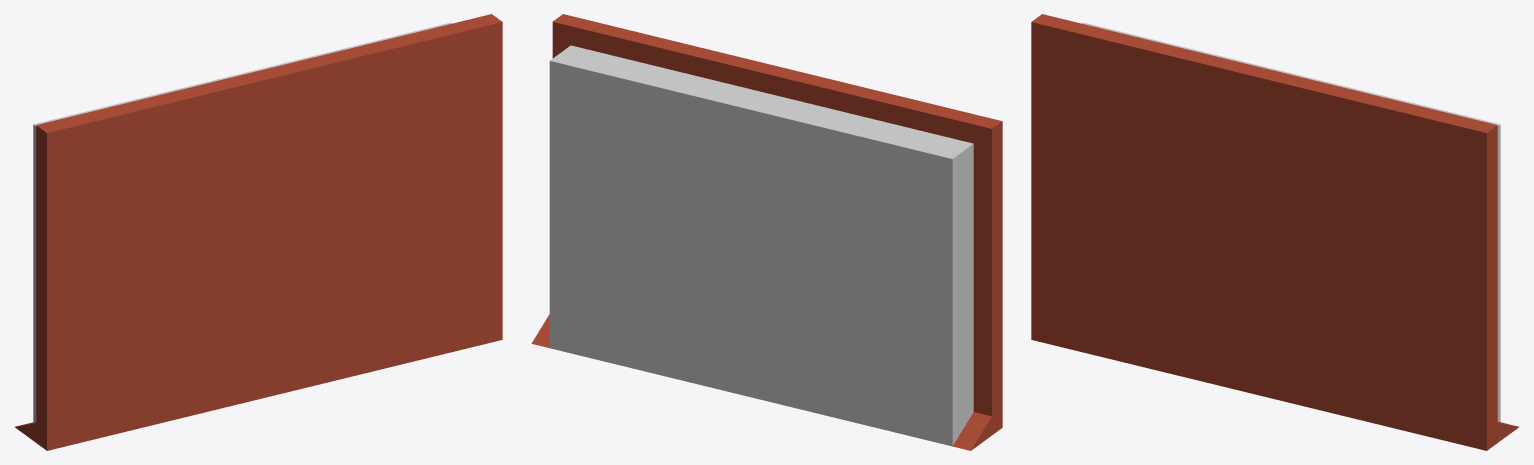
Rendered from SM_Book.fbx.
3 views of the same model, side by side, from view 1: azimuth 30°, elevation 25°; view 2: azimuth 150°, elevation 25°; view 3: azimuth 330°, elevation 25° (orthographic). The views are drawn at different scales.
Parts seen in each view (by area): view 1: Cube.001; view 2: Cube.001; view 3: Cube.001.
Boxes of the visible parts, x1,y1,x2,y2 form: Cube.001: (15,14,502,450); Cube.001: (531,14,1002,450); Cube.001: (1031,14,1518,450).
Size of the model in its own units: 48 by 32 by 6.
1 material, 1 textured.
